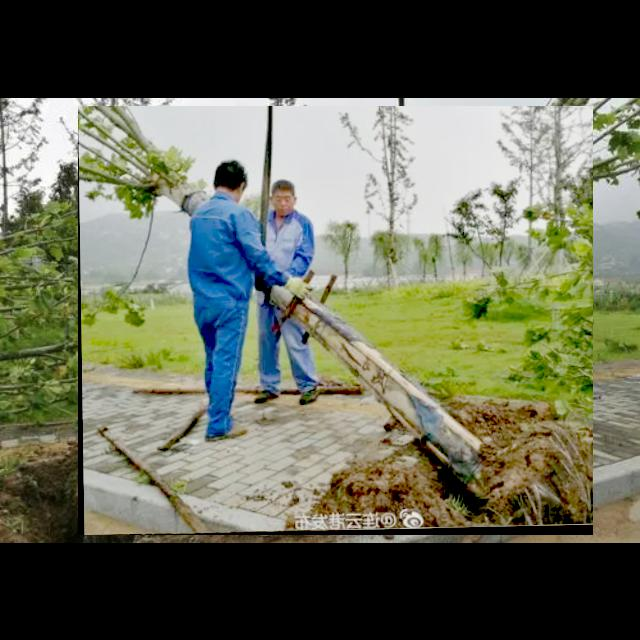Fallen Tree: (78, 106, 594, 536)
